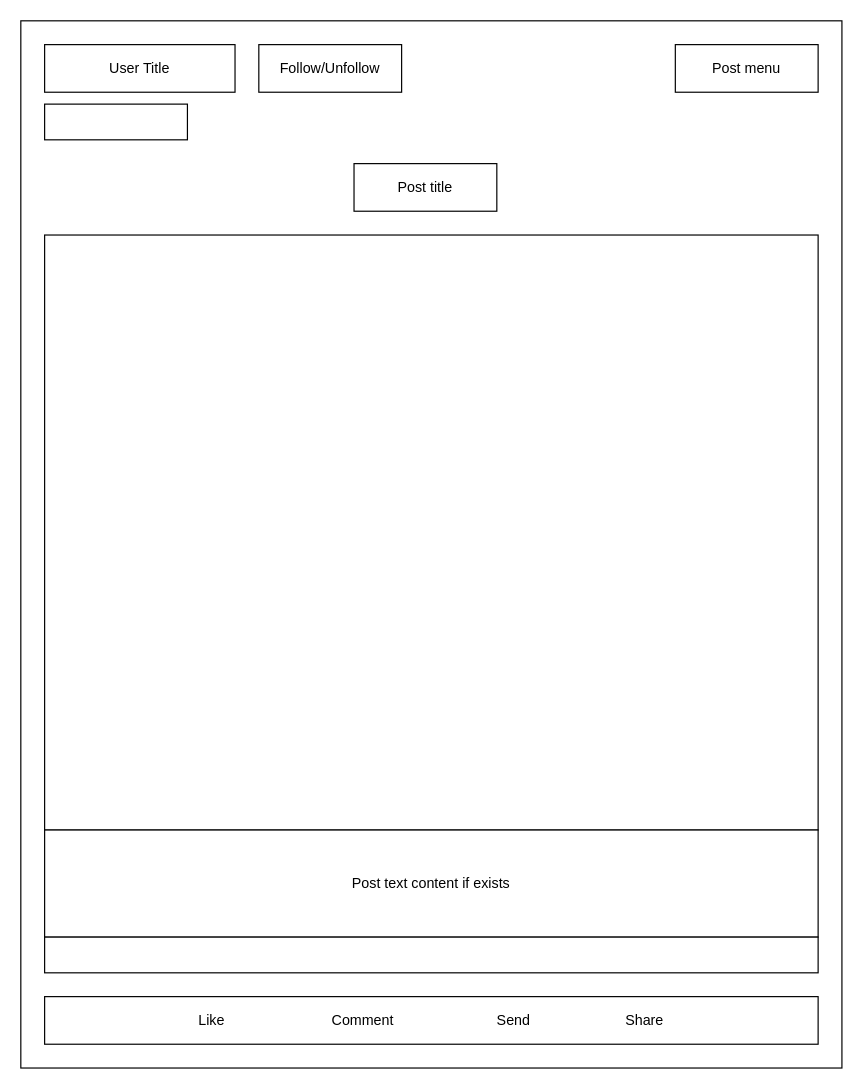
This 863x1089 diagram has some shape labels left out. Here are the shapes that lost their labels. From the top down, the centre of each, then its label:
At point (115, 121): "Posted date".
At point (430, 532): "Carousel with media content of the post".
At point (430, 954): "Likes count, comments count, shares count".
